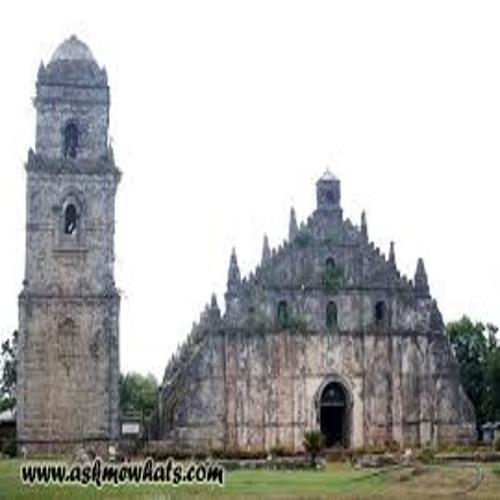Paoay Church: (14, 33, 478, 455)
